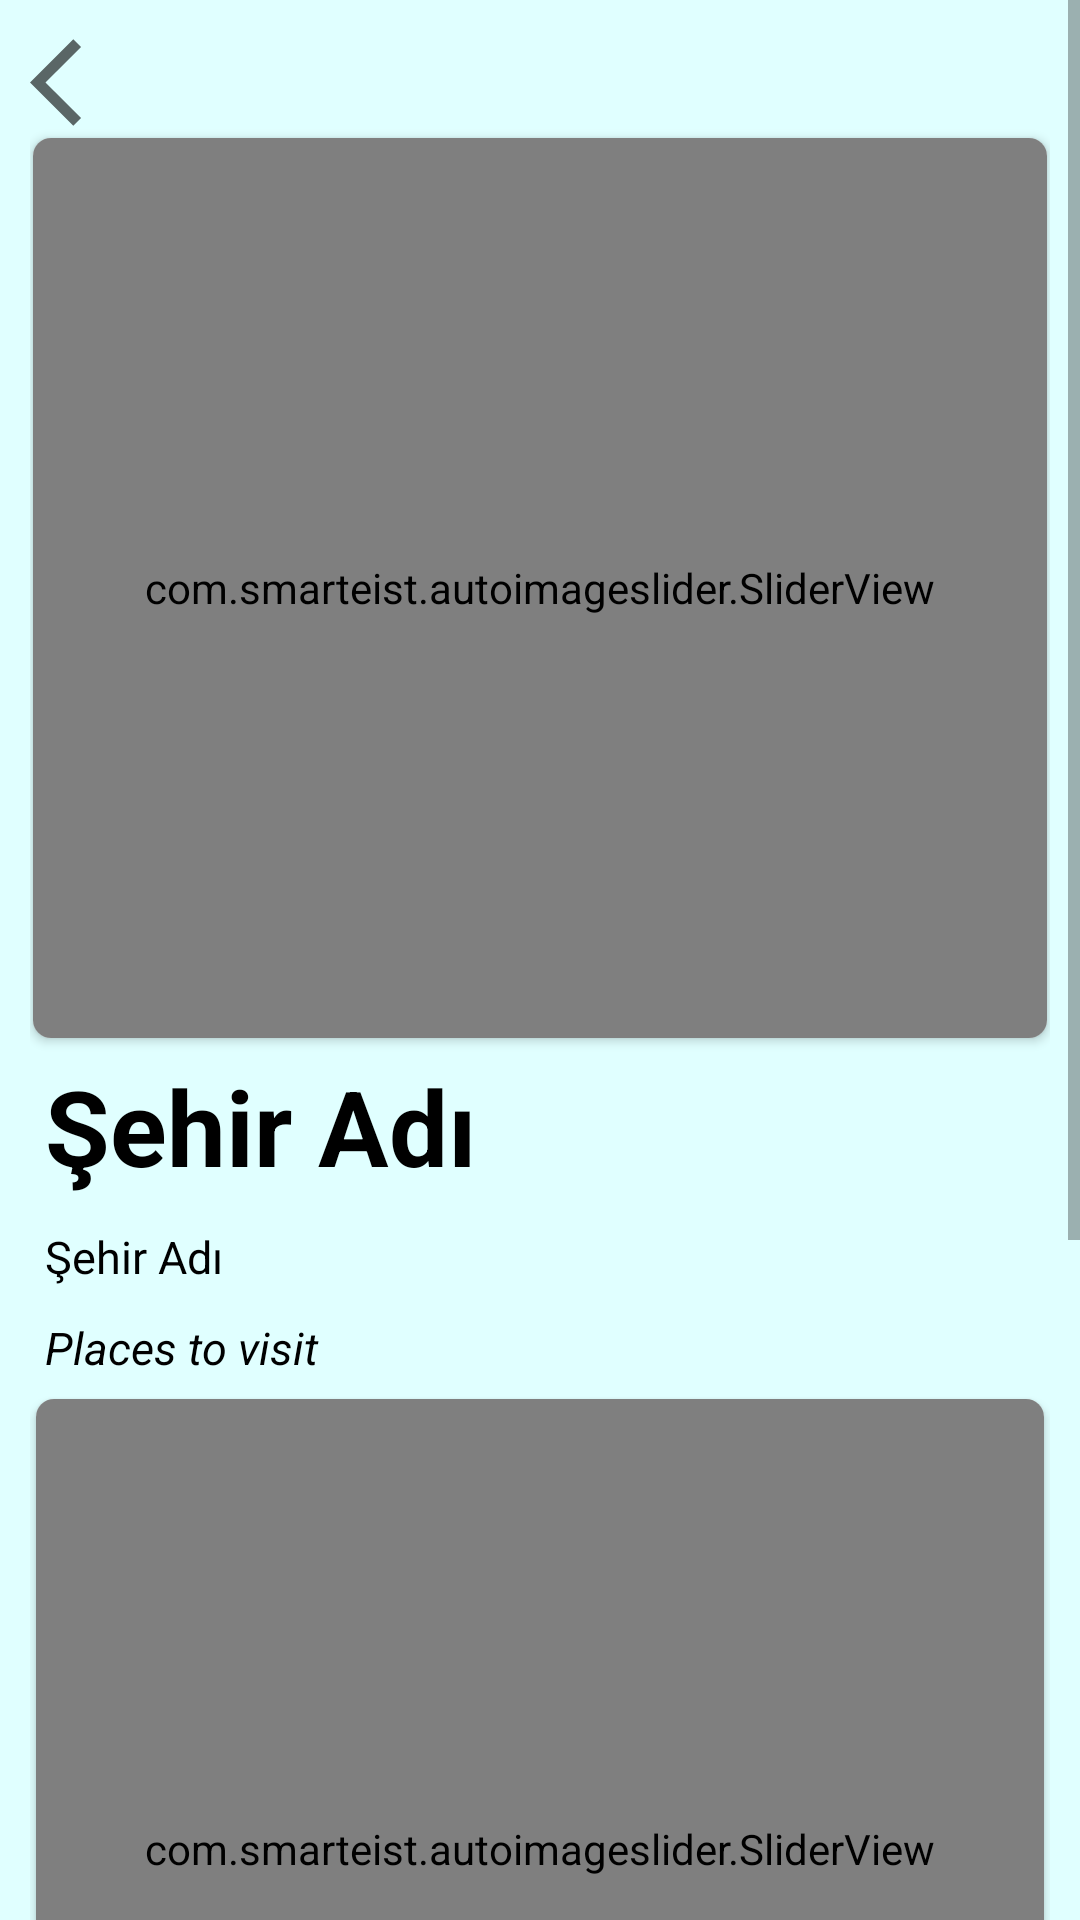

Point at icon controls on the screen. Image size 1080×1920, points as [x,y].
back: [55,82]
